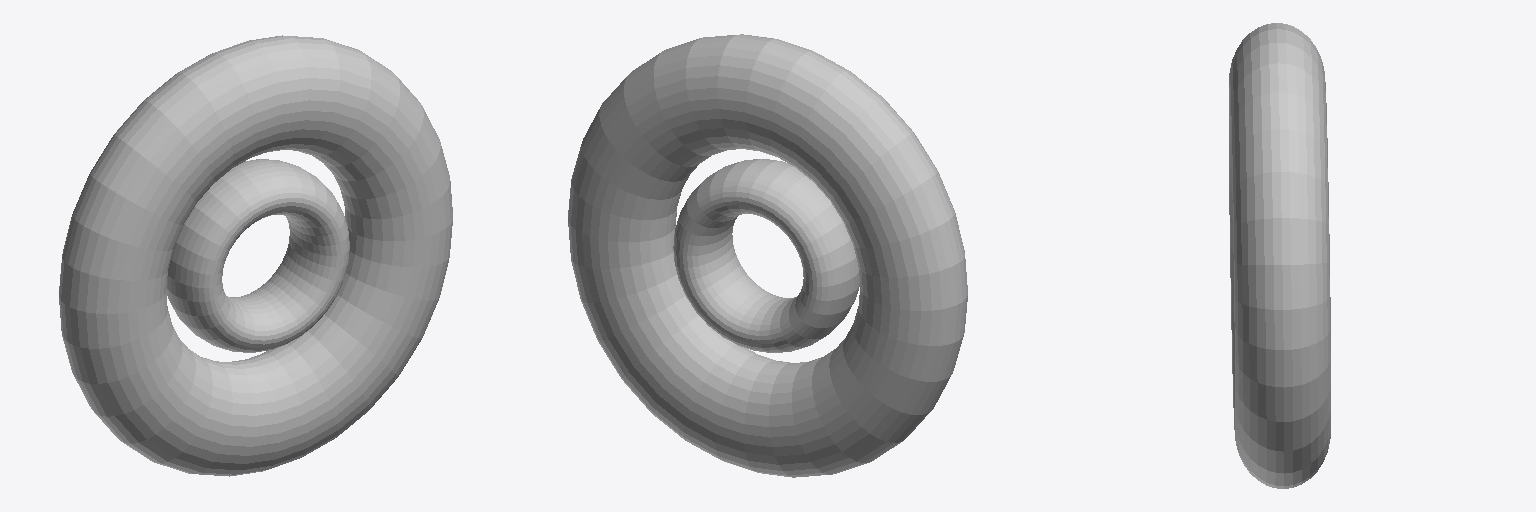
The model's file is target2.obj.
3 renders of one model, left to right at view 1: azimuth 30°, elevation 25°; view 2: azimuth 150°, elevation 25°; view 3: azimuth 270°, elevation 25°, orthographic.
Parts seen in each view (by area): view 1: SurfTorus.001_SurfTorus.002, SurfTorus_SurfTorus.001; view 2: SurfTorus.001_SurfTorus.002, SurfTorus_SurfTorus.001; view 3: SurfTorus.001_SurfTorus.002.
Boxes of the visible parts, box(x1,y1,x2,y2) form: SurfTorus.001_SurfTorus.002: box(59, 35, 452, 476); SurfTorus_SurfTorus.001: box(166, 159, 349, 352); SurfTorus.001_SurfTorus.002: box(568, 34, 967, 477); SurfTorus_SurfTorus.001: box(673, 159, 859, 352); SurfTorus.001_SurfTorus.002: box(1229, 23, 1330, 488).
Bounding box in the file's own units: 2.69 × 2.85 × 0.6222.